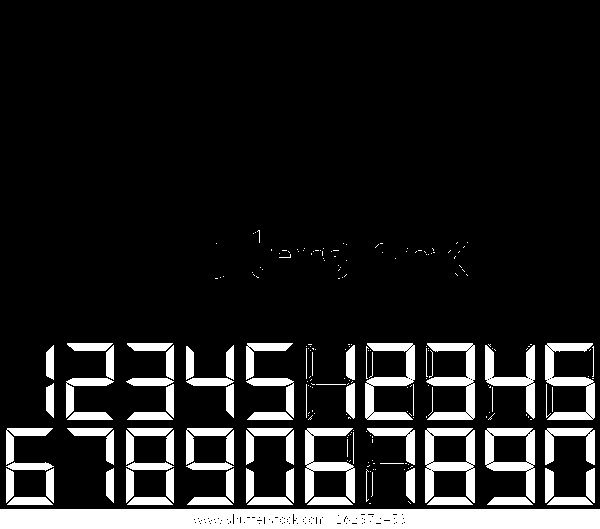eight: (425, 428, 477, 505), (126, 429, 173, 507)
five: (546, 342, 596, 422), (245, 342, 293, 420)
four: (483, 347, 536, 419), (185, 344, 234, 418)
nine: (185, 428, 235, 506), (484, 430, 535, 504)
one: (46, 345, 56, 421), (346, 343, 354, 419)
seven: (365, 428, 417, 506), (67, 428, 115, 502)
six: (304, 427, 356, 506), (6, 429, 57, 504)
three: (126, 343, 176, 422), (428, 343, 474, 419)
two: (365, 344, 416, 422), (65, 344, 114, 419)
zero: (544, 427, 597, 504), (247, 429, 294, 505)
